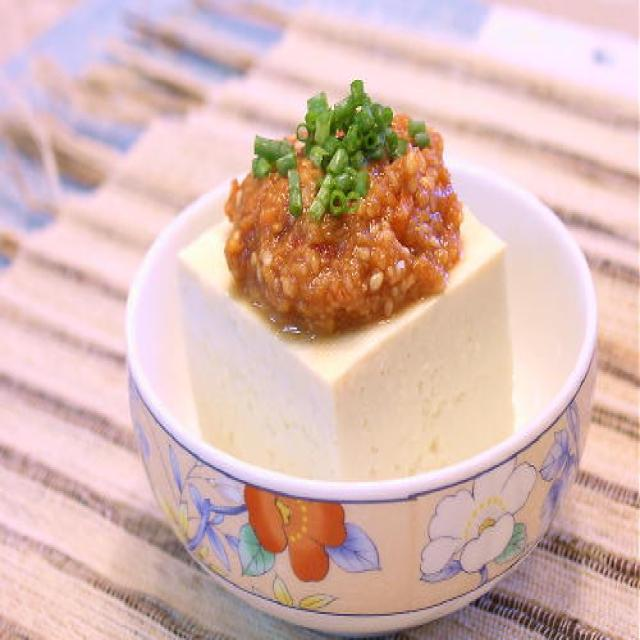豆腐料理: (179, 78, 512, 482)
